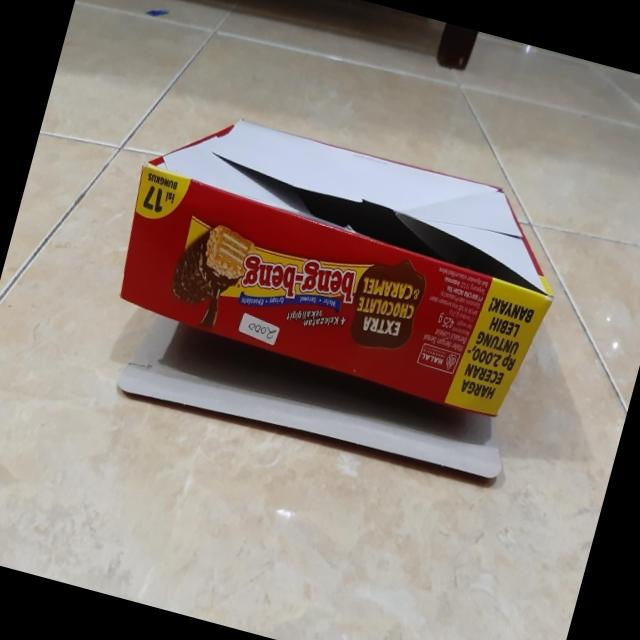Kardus: (82, 96, 576, 498)
